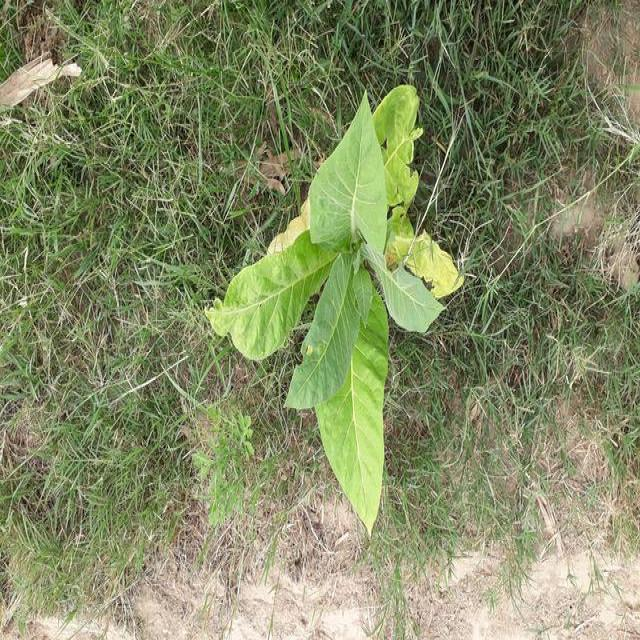crop: (228, 90, 460, 524)
